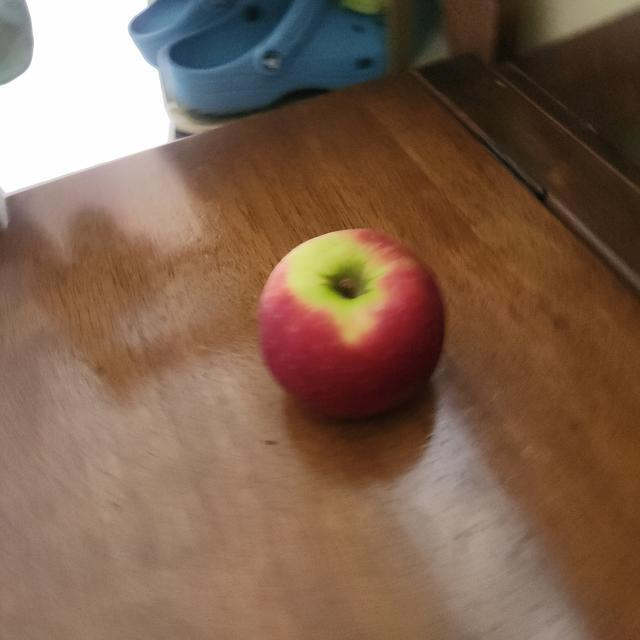apple: (246, 225, 451, 432)
